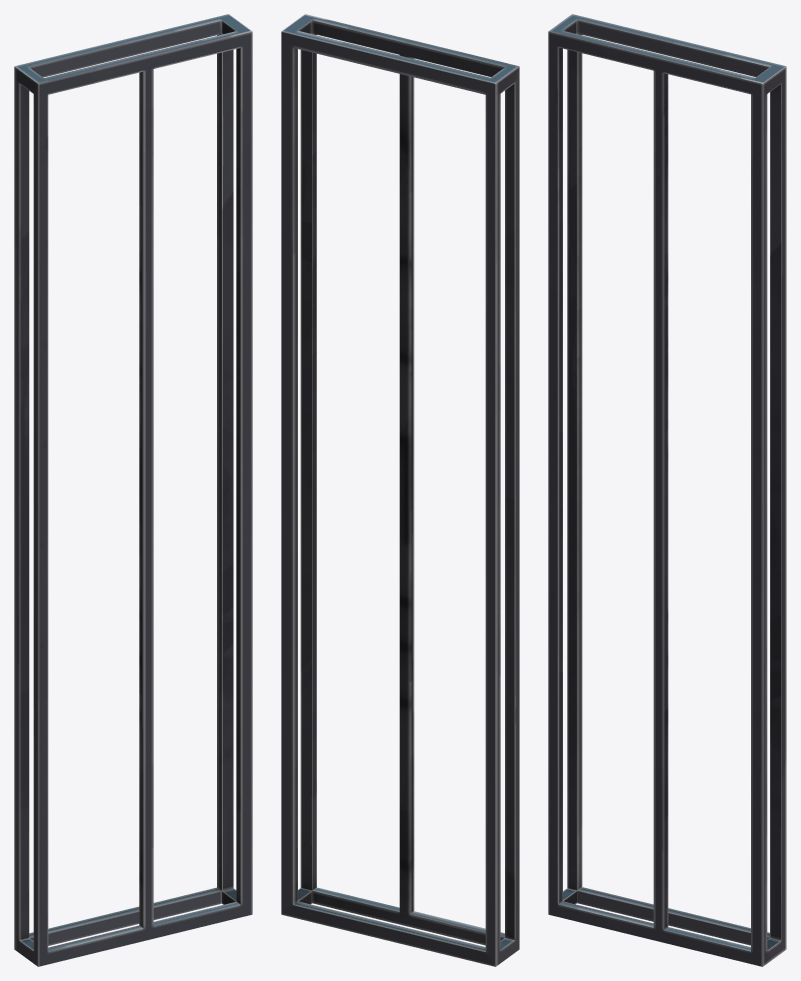
The model's file is Props-TextBanner-Motel_FRAME.fbx.
3 renders of one model, left to right at view 1: azimuth 30°, elevation 25°; view 2: azimuth 150°, elevation 25°; view 3: azimuth 330°, elevation 25°, orthographic.
Visible parts, largest first — view 1: Props-TextBanner-Motel_FRAME; view 2: Props-TextBanner-Motel_FRAME; view 3: Props-TextBanner-Motel_FRAME.
Boxes of the visible parts, x1,y1,x2,y2 form: Props-TextBanner-Motel_FRAME: [14, 14, 252, 966]; Props-TextBanner-Motel_FRAME: [281, 14, 519, 966]; Props-TextBanner-Motel_FRAME: [548, 14, 786, 966].
Bounding box in the file's own units: 53.71 × 211 × 10.4.
